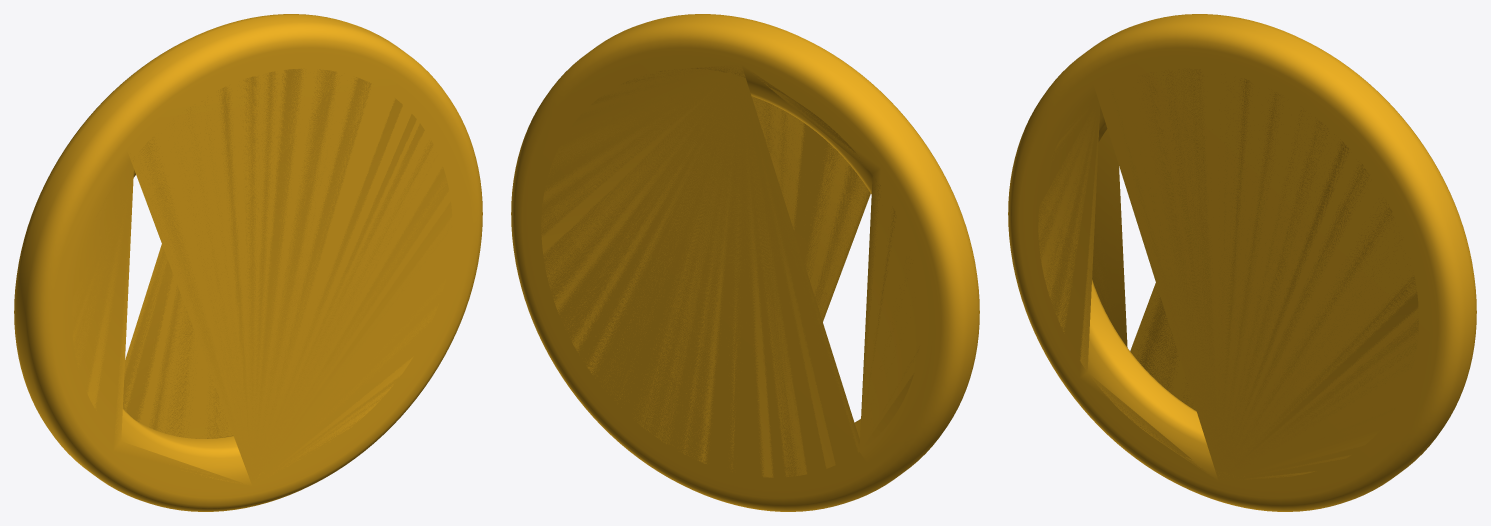
Rendered from halka (6).fbx.
3 views of the same model, side by side, from view 1: azimuth 30°, elevation 25°; view 2: azimuth 150°, elevation 25°; view 3: azimuth 330°, elevation 25° (orthographic).
Parts seen in each view (by area): view 1: Cylinder; view 2: Cylinder; view 3: Cylinder.
Part boxes in pixels (left/top/right/bottom): Cylinder: left=14, top=14, right=482, bottom=511; Cylinder: left=511, top=14, right=979, bottom=511; Cylinder: left=1008, top=14, right=1476, bottom=511.
Bounding box in the file's own units: 160 × 160 × 16.85.
